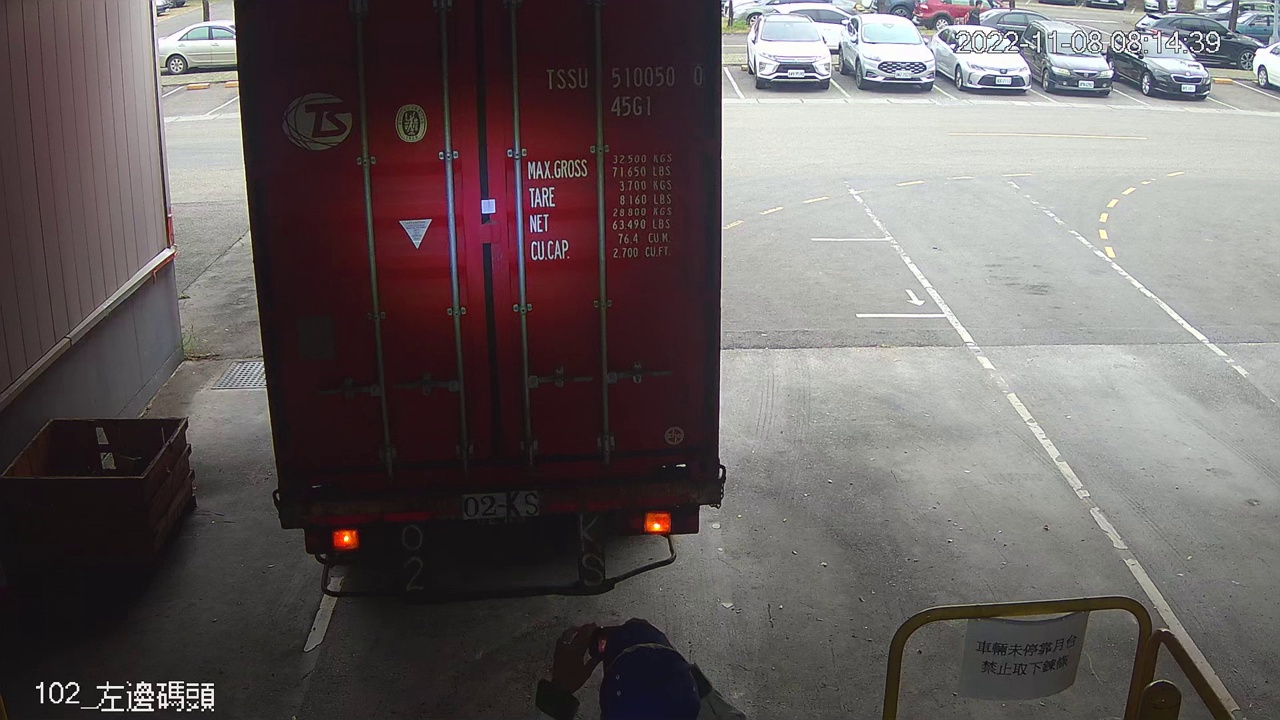container: (538, 55, 709, 129)
